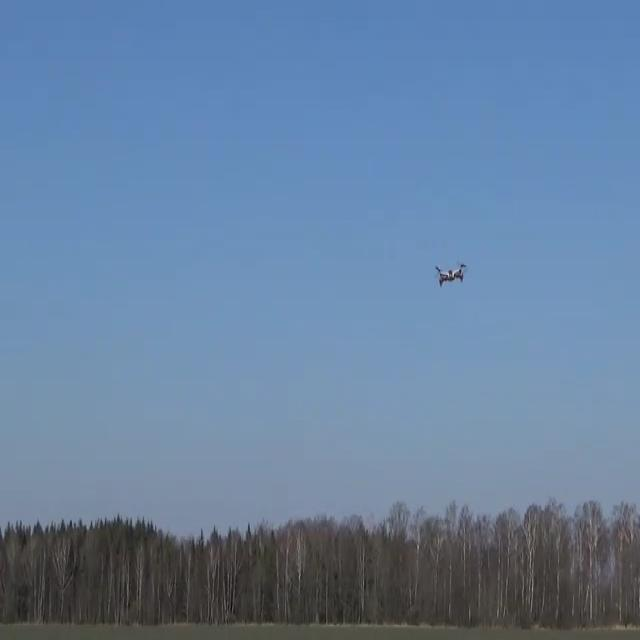Drone: (424, 247, 474, 296)
